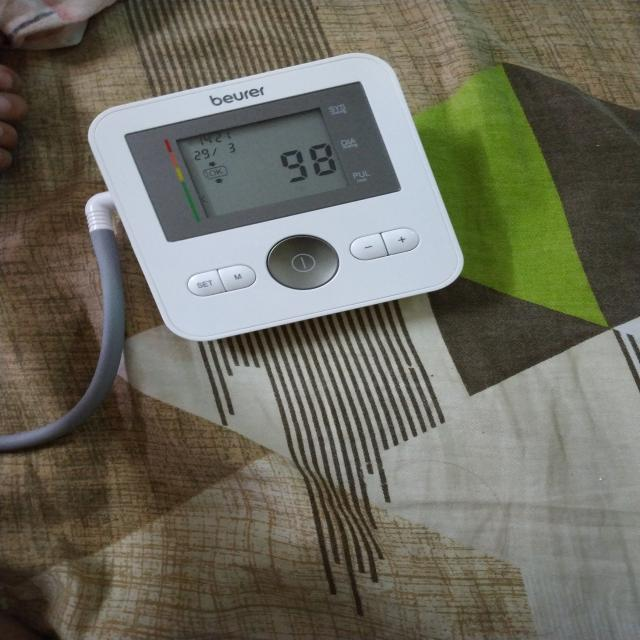display: (175, 108, 350, 220)
frame: (274, 135, 342, 188), (197, 128, 233, 144), (189, 146, 211, 162), (225, 140, 241, 157)
gauge: (88, 51, 465, 339)
